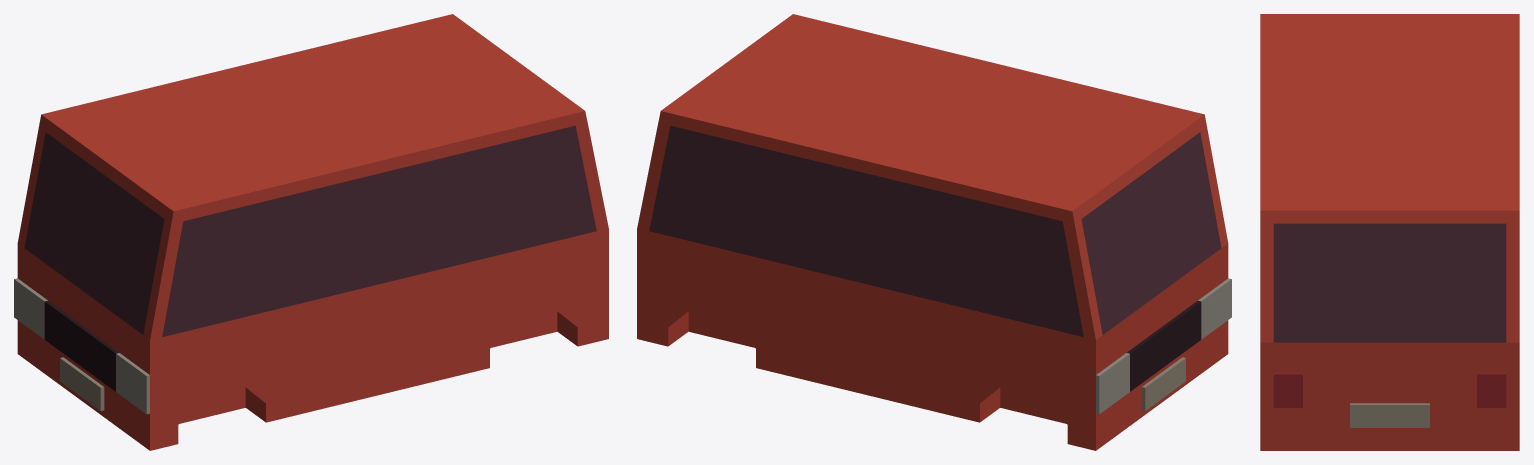
File: MiniVan_Red.fbx
3 renders of one model, left to right at view 1: azimuth 30°, elevation 25°; view 2: azimuth 150°, elevation 25°; view 3: azimuth 270°, elevation 25°, orthographic. The views are drawn at different scales.
Parts seen in each view (by area): view 1: MiniVan_Red, MiniVan_Lights; view 2: MiniVan_Red, MiniVan_Lights; view 3: MiniVan_Red, MiniVan_Lights.
Boxes of the visible parts, x1,y1,x2,y2 form: MiniVan_Red: [17, 14, 608, 450]; MiniVan_Lights: [14, 278, 149, 414]; MiniVan_Red: [637, 14, 1228, 450]; MiniVan_Lights: [1096, 278, 1231, 414]; MiniVan_Red: [1260, 14, 1519, 450]; MiniVan_Lights: [1273, 372, 1506, 407].
Size of the model in its own units: 3.96 by 1.9 by 1.95.
